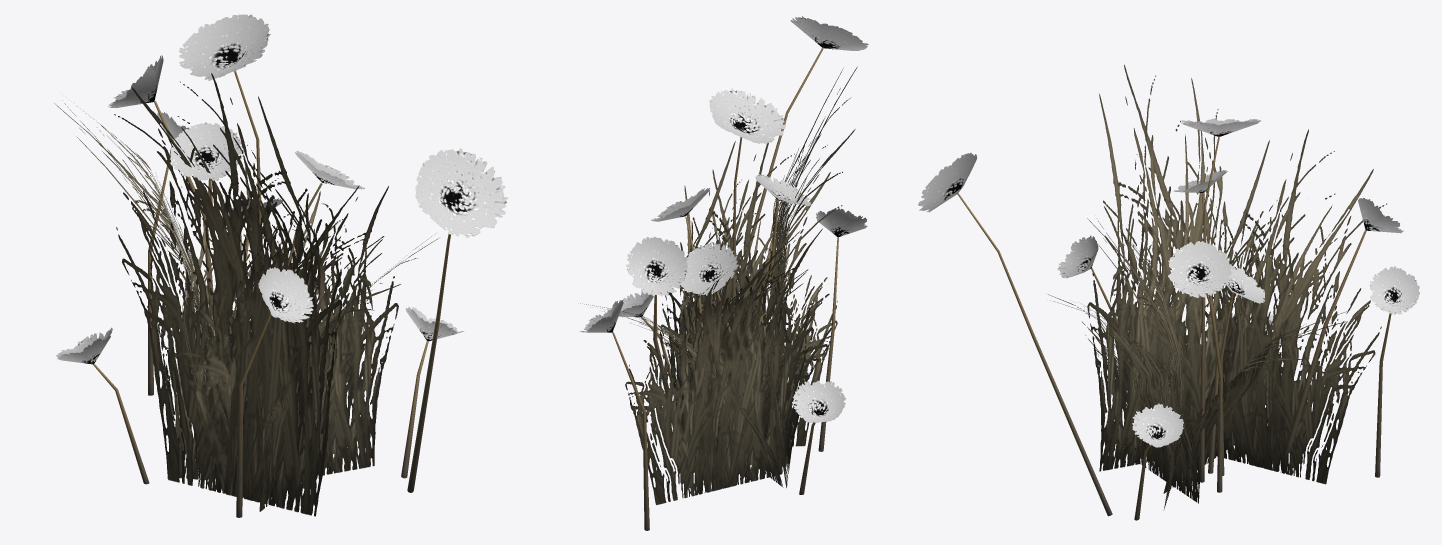
Rendered from flower1_afsTREE.fbx.
3 views of the same model, side by side, from view 1: azimuth 30°, elevation 25°; view 2: azimuth 150°, elevation 25°; view 3: azimuth 270°, elevation 25° (orthographic). The views are drawn at different scales.
Visible parts, largest first — view 1: leaf1_4, leaf1, branch_7, branch_5, branch_2, leaf1_3, leaf1_1, leaf1_2, branch_4, branch_8, branch_1, branch (+2 smaller); view 2: leaf1_2, leaf1, leaf1_1, leaf1_4, branch_5, branch_8, branch_6, branch_1, branch_7, branch_2, leaf1_3, branch_2_2 (+3 smaller); view 3: leaf1_2, leaf1_4, leaf1_1, branch_3, leaf1_3, branch_7, leaf1, branch_2_2, branch, branch_8, branch_5, branch_2 (+2 smaller).
Boxes of the visible parts, box(x1,y1,x2,y2) form: leaf1_4: box(114, 73, 342, 516); leaf1: box(178, 185, 398, 493); branch_7: box(407, 148, 508, 492); branch_5: box(178, 14, 270, 273); branch_2: box(236, 267, 313, 517); leaf1_3: box(157, 168, 365, 488); leaf1_1: box(259, 236, 438, 511); leaf1_2: box(54, 100, 204, 459); branch_4: box(170, 122, 243, 345); branch_8: box(108, 55, 213, 324); branch_1: box(56, 327, 149, 484); branch: box(401, 306, 463, 478); leaf1_2: box(625, 228, 822, 505); leaf1: box(665, 141, 842, 463); leaf1_1: box(660, 169, 837, 446); leaf1_4: box(768, 66, 857, 488); branch_5: box(709, 88, 785, 374); branch_8: box(626, 237, 688, 425); branch_6: box(681, 243, 738, 335); branch_1: box(792, 380, 846, 494); branch_7: box(729, 16, 868, 320); branch_2: box(816, 208, 867, 451); leaf1_3: box(580, 303, 783, 487); branch_2_2: box(579, 300, 649, 530); leaf1_2: box(1204, 129, 1386, 484); leaf1_4: box(1087, 64, 1274, 471); leaf1_1: box(1048, 294, 1199, 503); branch_3: box(1168, 241, 1231, 492); leaf1_3: box(1163, 311, 1346, 493); branch_7: box(917, 152, 1112, 516); leaf1: box(1087, 218, 1186, 510); branch_2_2: box(1369, 266, 1419, 477); branch: box(1132, 403, 1183, 520); branch_8: box(1284, 197, 1404, 452); branch_5: box(1181, 118, 1260, 482); branch_2: box(1057, 235, 1128, 379).
Size of the model in its own units: 103 by 140 by 156.
